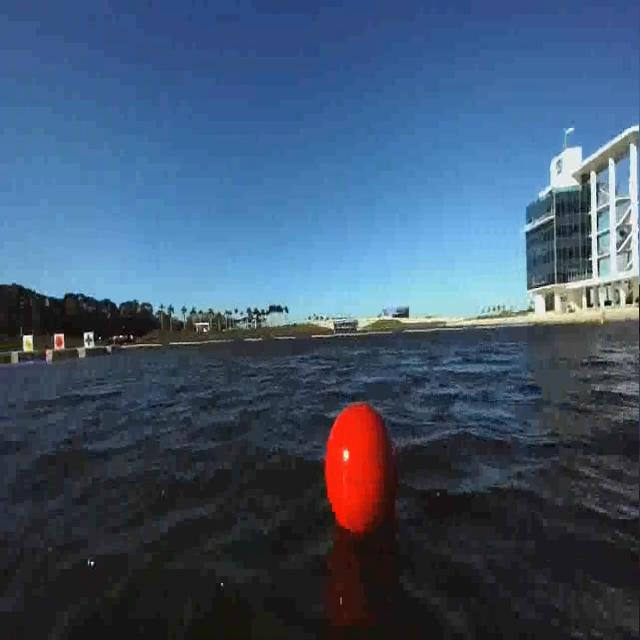red-buoy: (322, 404, 399, 540)
